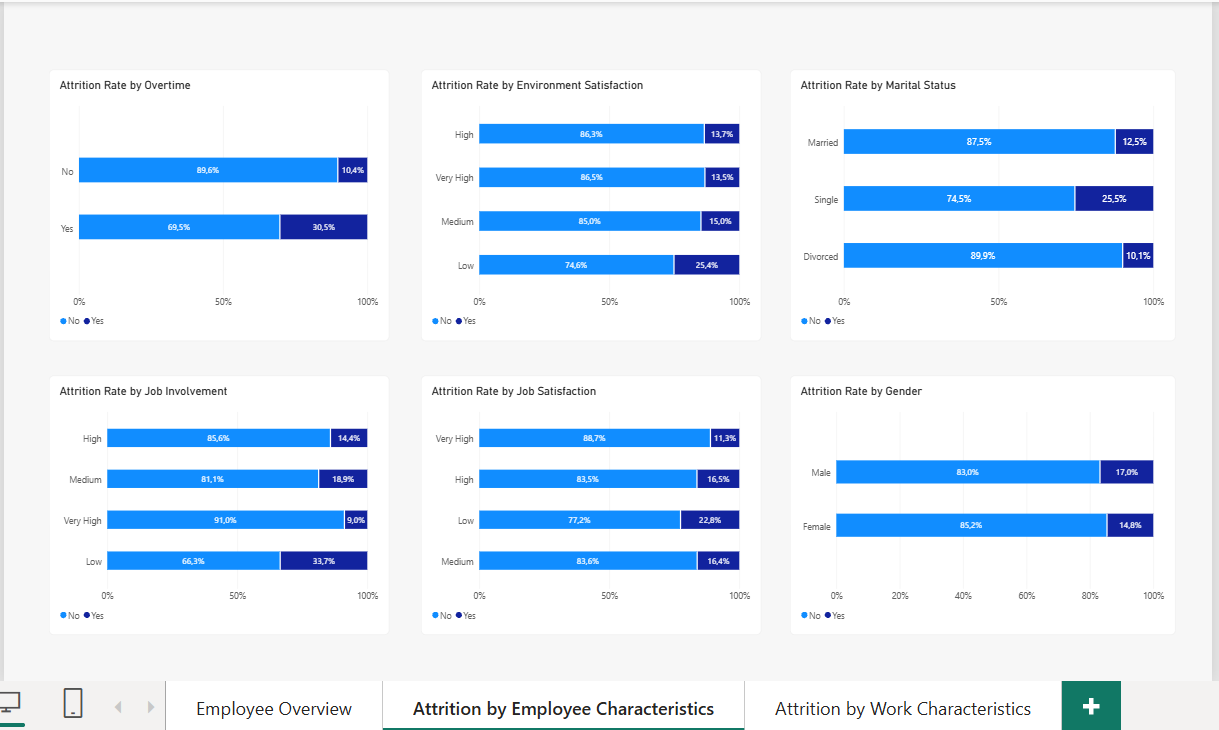

The page's visual inventory and layout, read from the dashboard file:
{"tool":"powerbi","page":{"name":"\tAttrition by Employee Characteristics","canvas":[1920,1080],"ordinal":1},"visuals":[{"type":"hundredPercentStackedBarChart","title":"Attrition Rate by Overtime","fields":{"Category":["HR_Employee_Attrition_Clean.OverTime"],"Series":["HR_Employee_Attrition_Clean.Attrition"],"Y":["HR_Employee_Attrition_Clean.Total Employees"]},"box":[71.6,107.4,541.6,431.9],"z":0},{"type":"hundredPercentStackedBarChart","title":"Attrition Rate by Job Satisfaction","fields":{"Category":["HR_Employee_Attrition_Clean.JobSatisfaction"],"Series":["HR_Employee_Attrition_Clean.Attrition"],"Y":["HR_Employee_Attrition_Clean.Total Employees"]},"box":[663.3,594.1,541.6,412.8],"z":1000},{"type":"hundredPercentStackedBarChart","title":"Attrition Rate by Environment Satisfaction","fields":{"Category":["HR_Employee_Attrition_Clean.EnvironmentSatisfaction"],"Series":["HR_Employee_Attrition_Clean.Attrition"],"Y":["HR_Employee_Attrition_Clean.Total Employees"]},"box":[663.3,107.4,541.6,431.9],"z":6000},{"type":"hundredPercentStackedBarChart","title":"Attrition Rate by Marital Status","fields":{"Category":["HR_Employee_Attrition_Clean.MaritalStatus"],"Series":["HR_Employee_Attrition_Clean.Attrition"],"Y":["HR_Employee_Attrition_Clean.Total Employees"]},"box":[1250.2,107.4,613.2,431.9],"z":7000},{"type":"hundredPercentStackedBarChart","title":"Attrition Rate by Gender","fields":{"Category":["HR_Employee_Attrition_Clean.Gender"],"Series":["HR_Employee_Attrition_Clean.Attrition"],"Y":["HR_Employee_Attrition_Clean.Total Employees"]},"box":[1250.2,594.1,613.2,412.8],"z":8000},{"type":"hundredPercentStackedBarChart","title":"Attrition Rate by Job Involvement","fields":{"Category":["HR_Employee_Attrition_Clean.JobInvolvement"],"Series":["HR_Employee_Attrition_Clean.Attrition"],"Y":["HR_Employee_Attrition_Clean.Total Employees"]},"box":[71.6,594.1,541.6,412.8],"z":8001}]}

Visuals, with their boxes on the page's 1920x1080 design canvas (x1, y1, x2, y2). These are canvas units, not pixel positions in the 1219x730 screenshot, which may show the page scaled, cropped or inside an application window:
"Attrition Rate by Overtime" hundredPercentStackedBarChart: [left=72, top=107, right=613, bottom=539]
"Attrition Rate by Job Satisfaction" hundredPercentStackedBarChart: [left=663, top=594, right=1205, bottom=1007]
"Attrition Rate by Environment Satisfaction" hundredPercentStackedBarChart: [left=663, top=107, right=1205, bottom=539]
"Attrition Rate by Marital Status" hundredPercentStackedBarChart: [left=1250, top=107, right=1863, bottom=539]
"Attrition Rate by Gender" hundredPercentStackedBarChart: [left=1250, top=594, right=1863, bottom=1007]
"Attrition Rate by Job Involvement" hundredPercentStackedBarChart: [left=72, top=594, right=613, bottom=1007]
